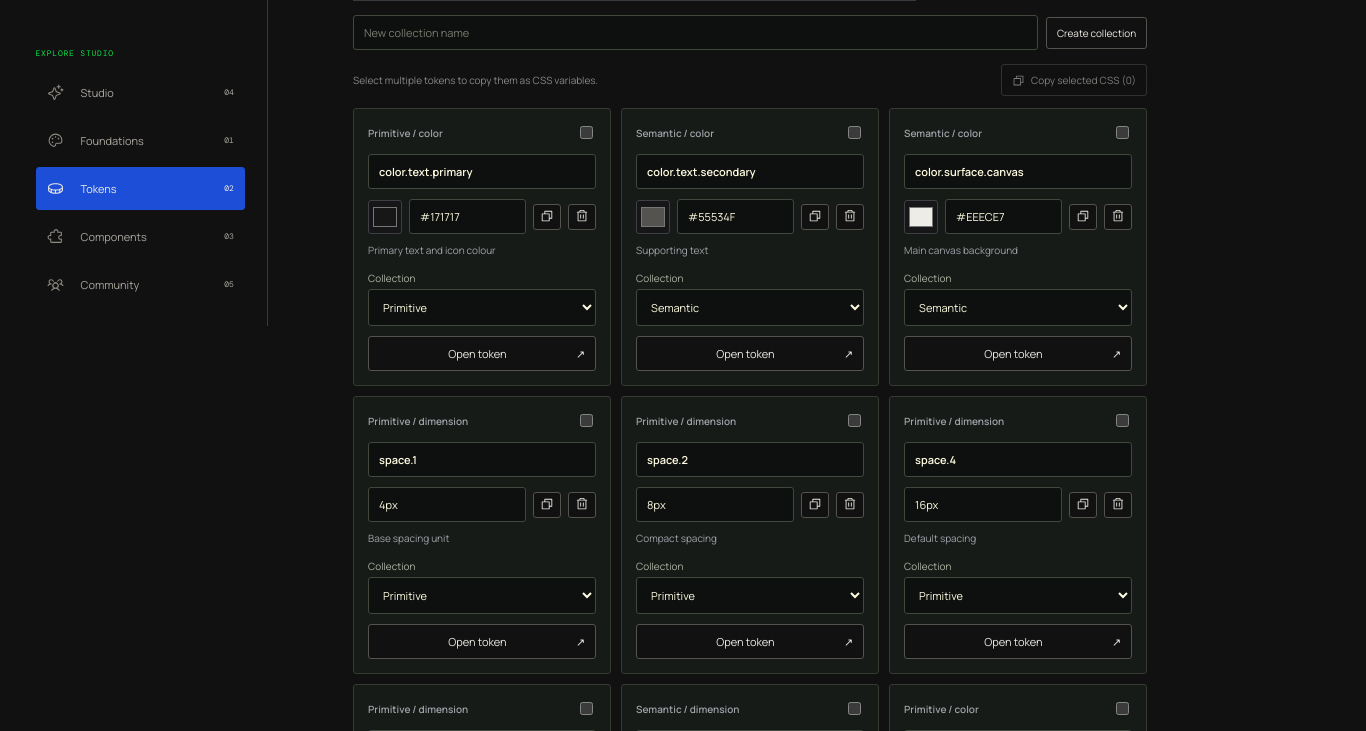
it: Dark-mode component interactions › opens token details in the dark workspace
The image size is (1366, 731).
(page scrolled)
Click the button "Open token ↗" below "Primary text and icon colour".
click(482, 354)  # box [368, 336, 596, 371]
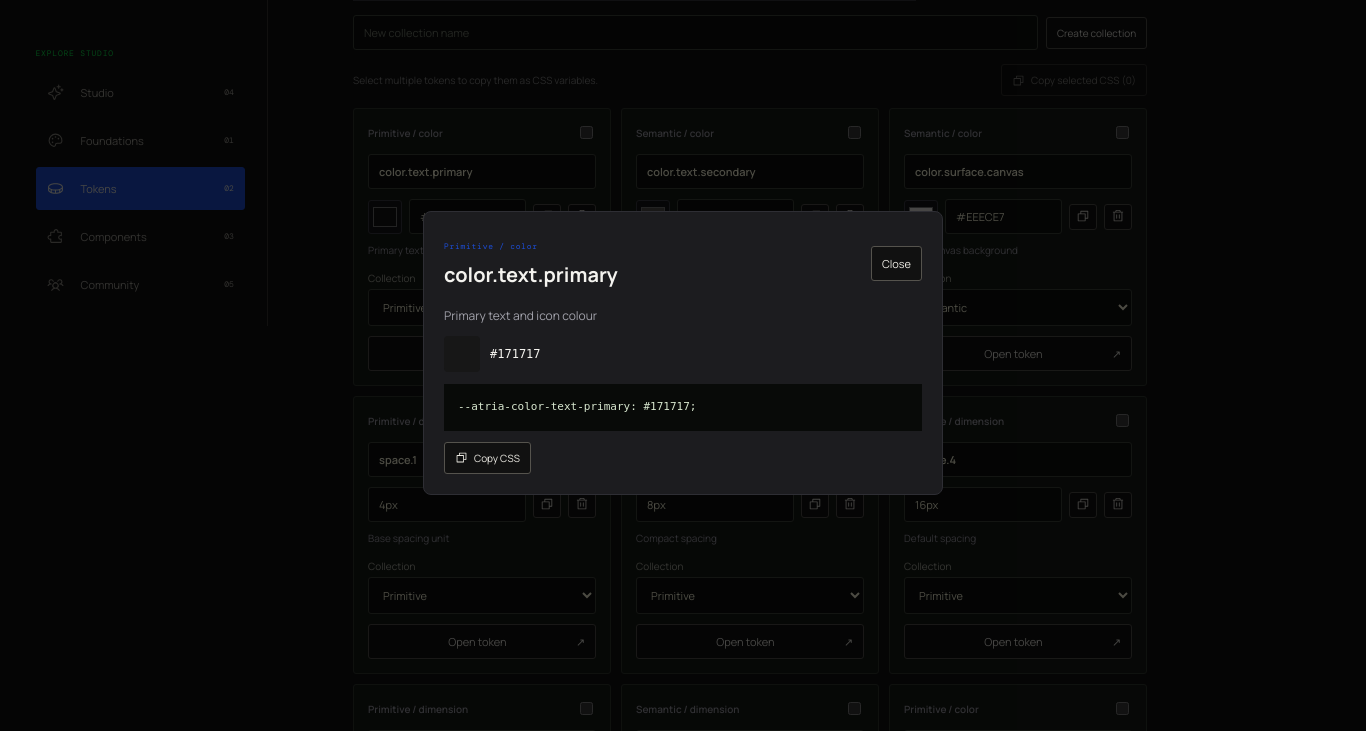
Now the dialog is shown, box [423, 211, 943, 495]
Click the button with aria-label "close token details".
click(896, 264)  # box [871, 246, 922, 281]
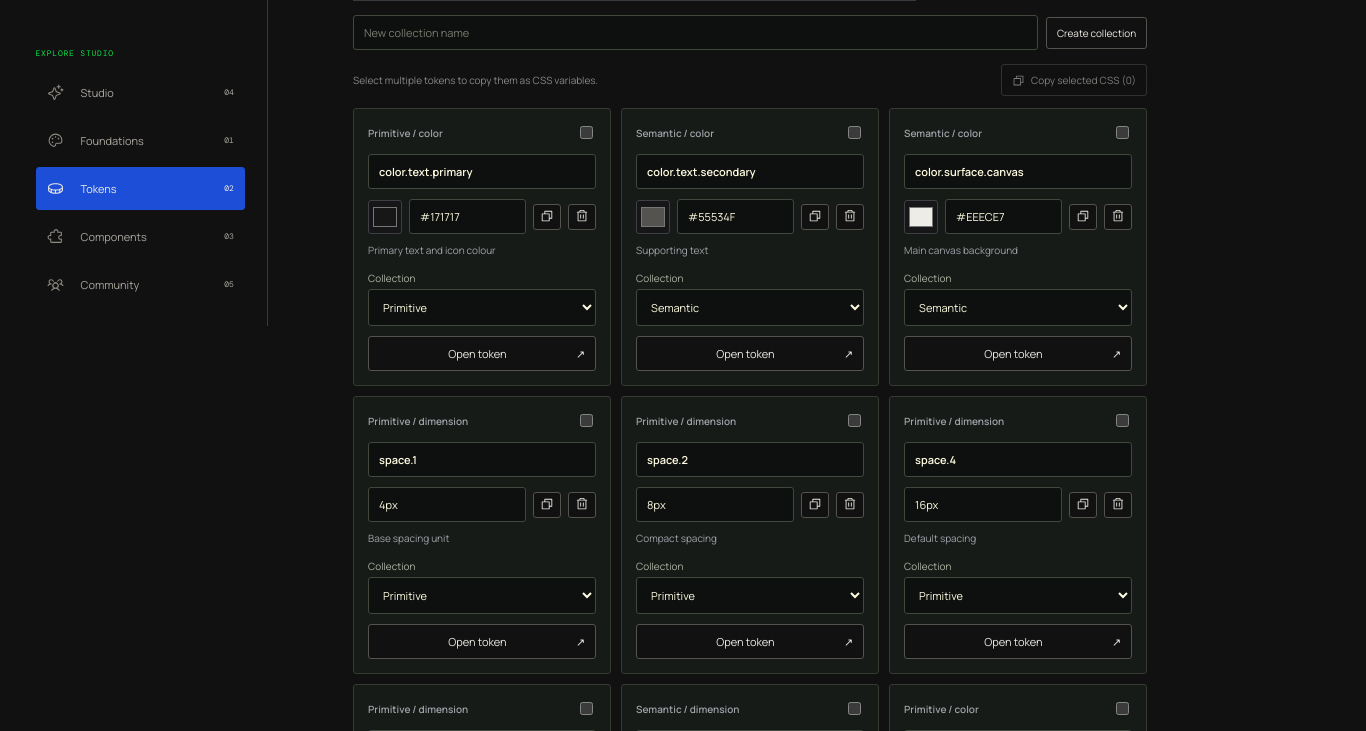
Now the dialog is gone
